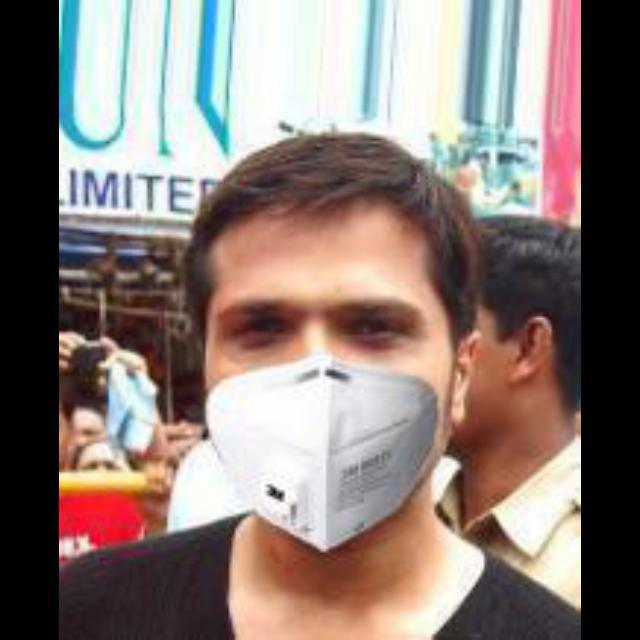suspicion: (178, 123, 466, 563)
